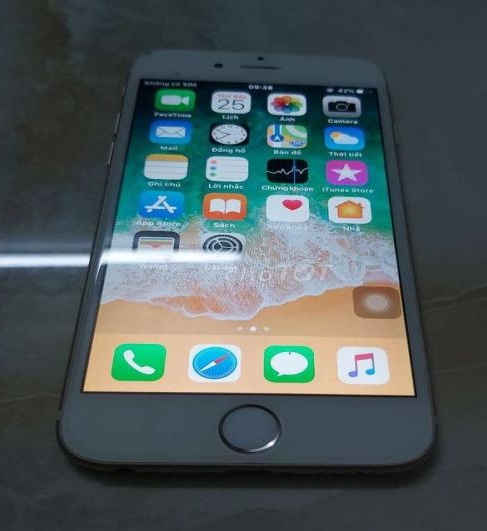scratch: (153, 60, 198, 90)
